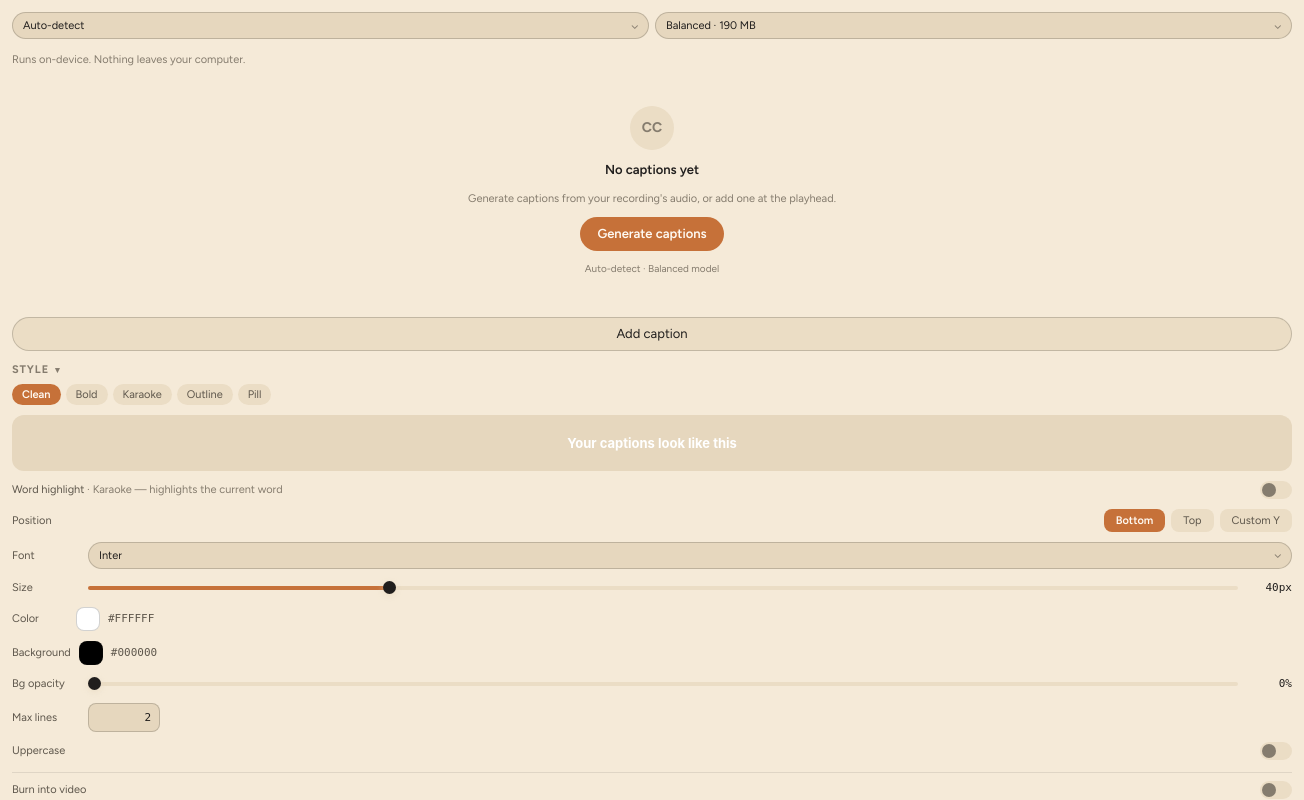
Captions tab › surfaces transcription failures from the runtime
Click the button "Generate captions". click: (652, 234)
box: [580,217,724,251]
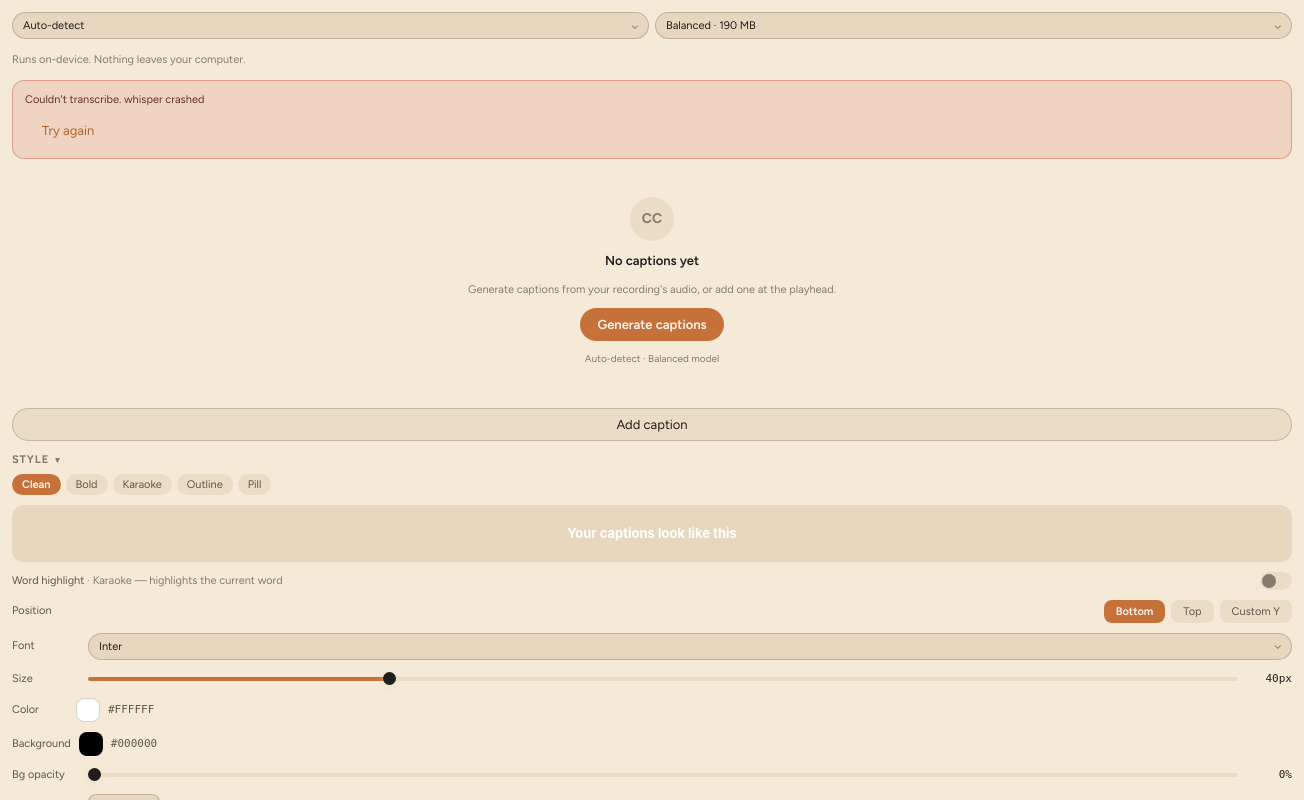
Now the message "Couldn't transcribe. whisper crashed Try again" is shown, box [12,80,1292,159]
